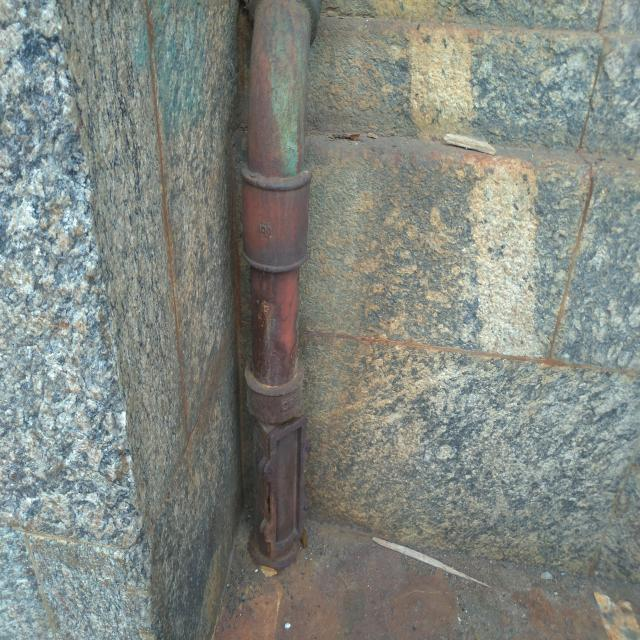gas: (249, 1, 307, 553)
